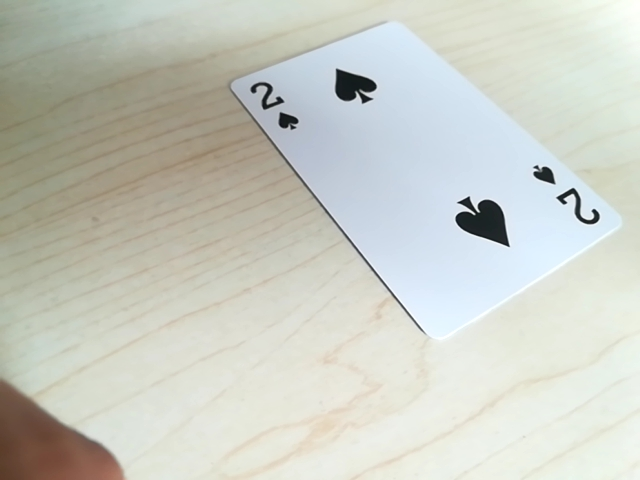ht 2: (528, 160, 605, 235), (237, 74, 301, 138)
